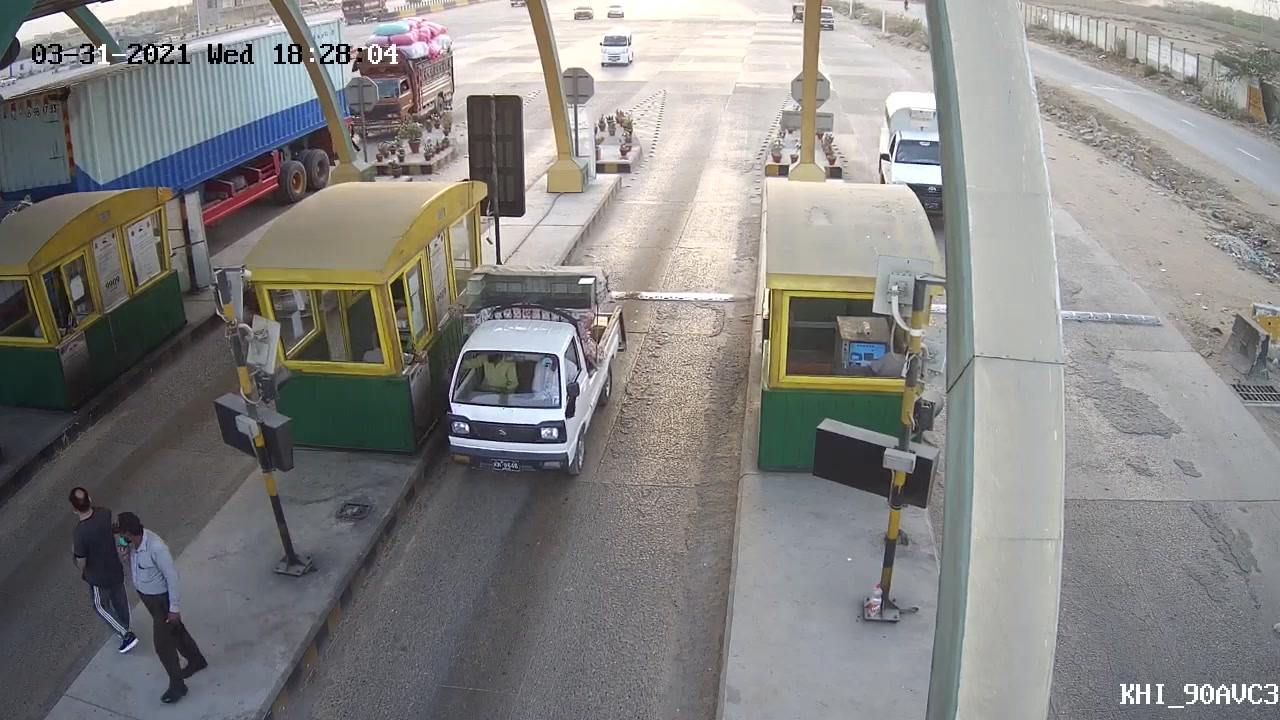F1: (434, 267, 622, 481)
